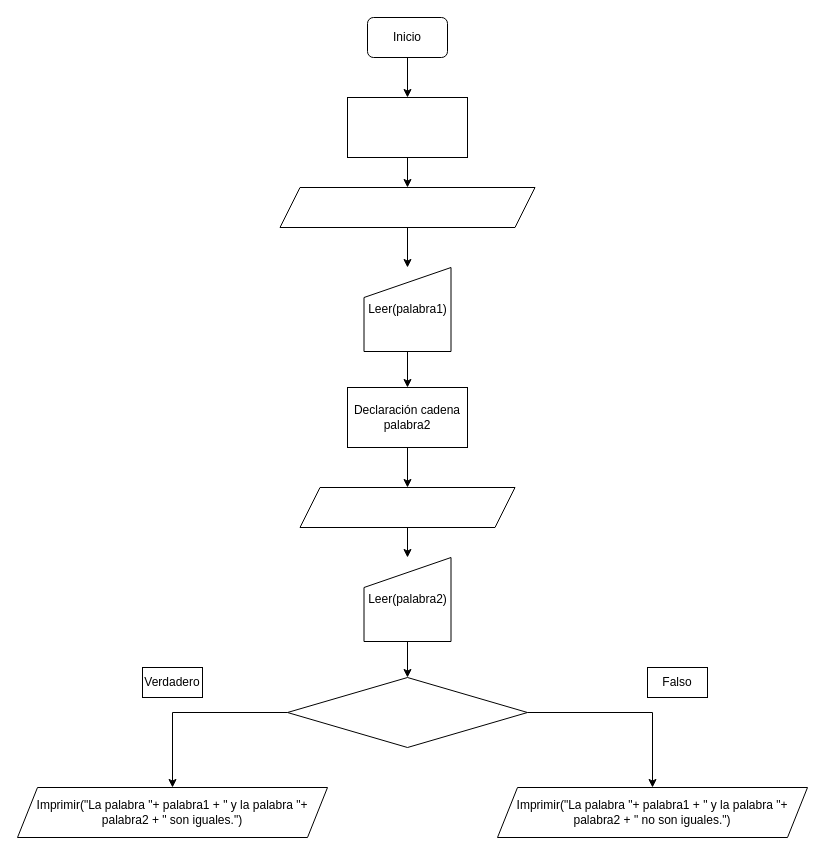
Image size: 825x855. Some labels were removed from this diagram. Here are the shapes that lost their labels. From the top down, the centre of each, then its label:
(407,127): Declaración cadena palabra1
(407,207): Imprimir("Introduce la primera palabra")
(407,507): Imprimir("Introduce la segunda palabra")
(407,712): Condición (palabra1 = palabra2)
